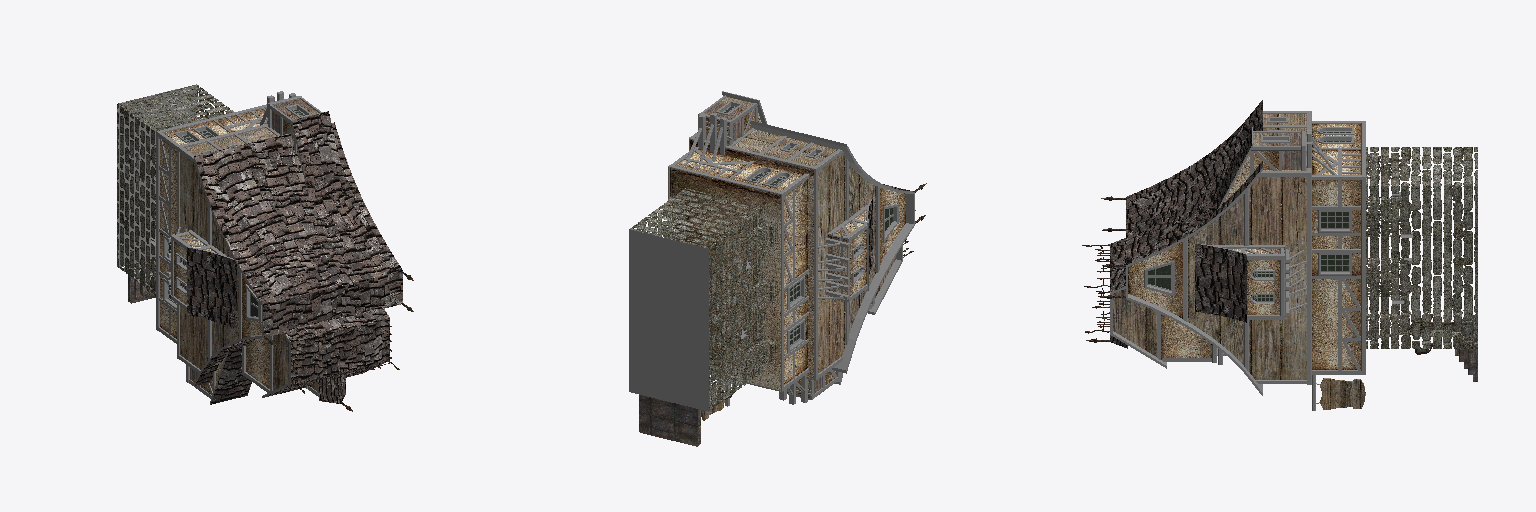
3 renders of one model, left to right at view 1: azimuth 30°, elevation 25°; view 2: azimuth 150°, elevation 25°; view 3: azimuth 270°, elevation 25°, orthographic.
Visible parts, largest first — view 1: Med_house; view 2: Med_house; view 3: Med_house.
Boxes of the visible parts, x1=… form: Med_house: x1=117, y1=84, x2=413, y2=411; Med_house: x1=629, y1=91, x2=926, y2=446; Med_house: x1=1082, y1=100, x2=1477, y2=410.
Bounding box in the file's own units: 87.5 × 141 × 176.
Materials: 10 (9 with a texture image).